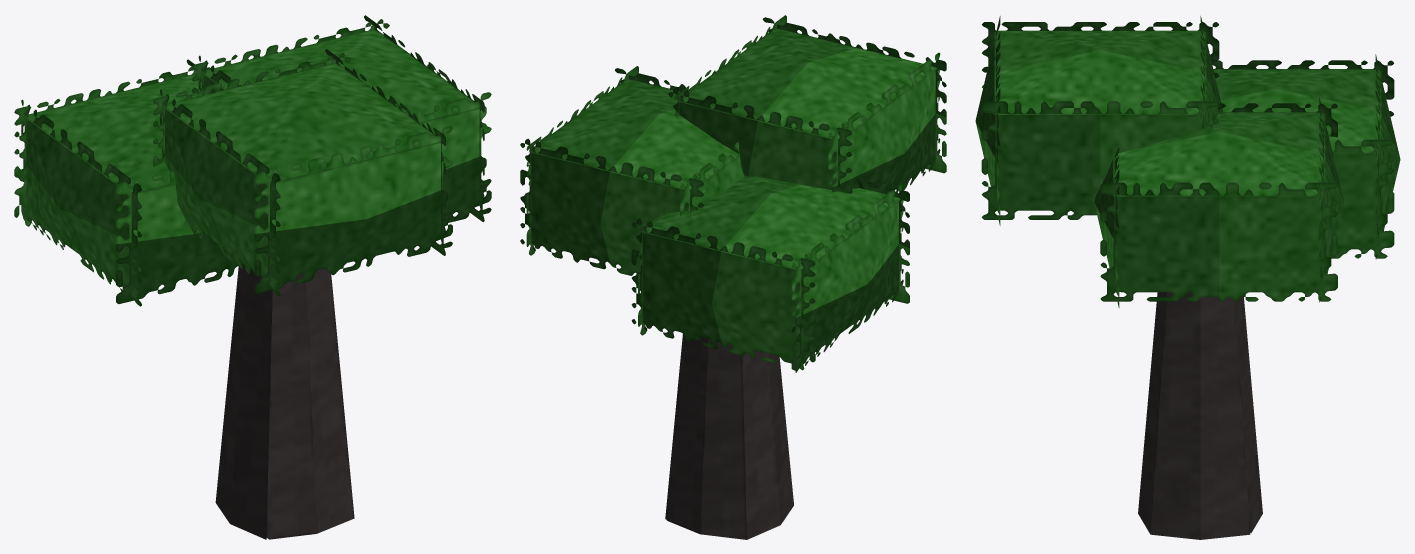
3 views of the same model, side by side, from view 1: azimuth 30°, elevation 25°; view 2: azimuth 150°, elevation 25°; view 3: azimuth 270°, elevation 25° (orthographic). The views are drawn at different scales.
Visible parts, largest first — view 1: mesh_selection, trunk; view 2: mesh_selection, trunk; view 3: mesh_selection, trunk.
Boxes of the visible parts, box(x1,y1,x2,y2) form: mesh_selection: box(14, 15, 491, 306); trunk: box(215, 264, 354, 539); mesh_selection: box(520, 15, 946, 372); trunk: box(665, 334, 793, 539); mesh_selection: box(975, 16, 1400, 307); trunk: box(1138, 292, 1262, 539).
Bounding box in the file's own units: 4.06 × 4.94 × 4.25.
3 materials, 3 textured.
